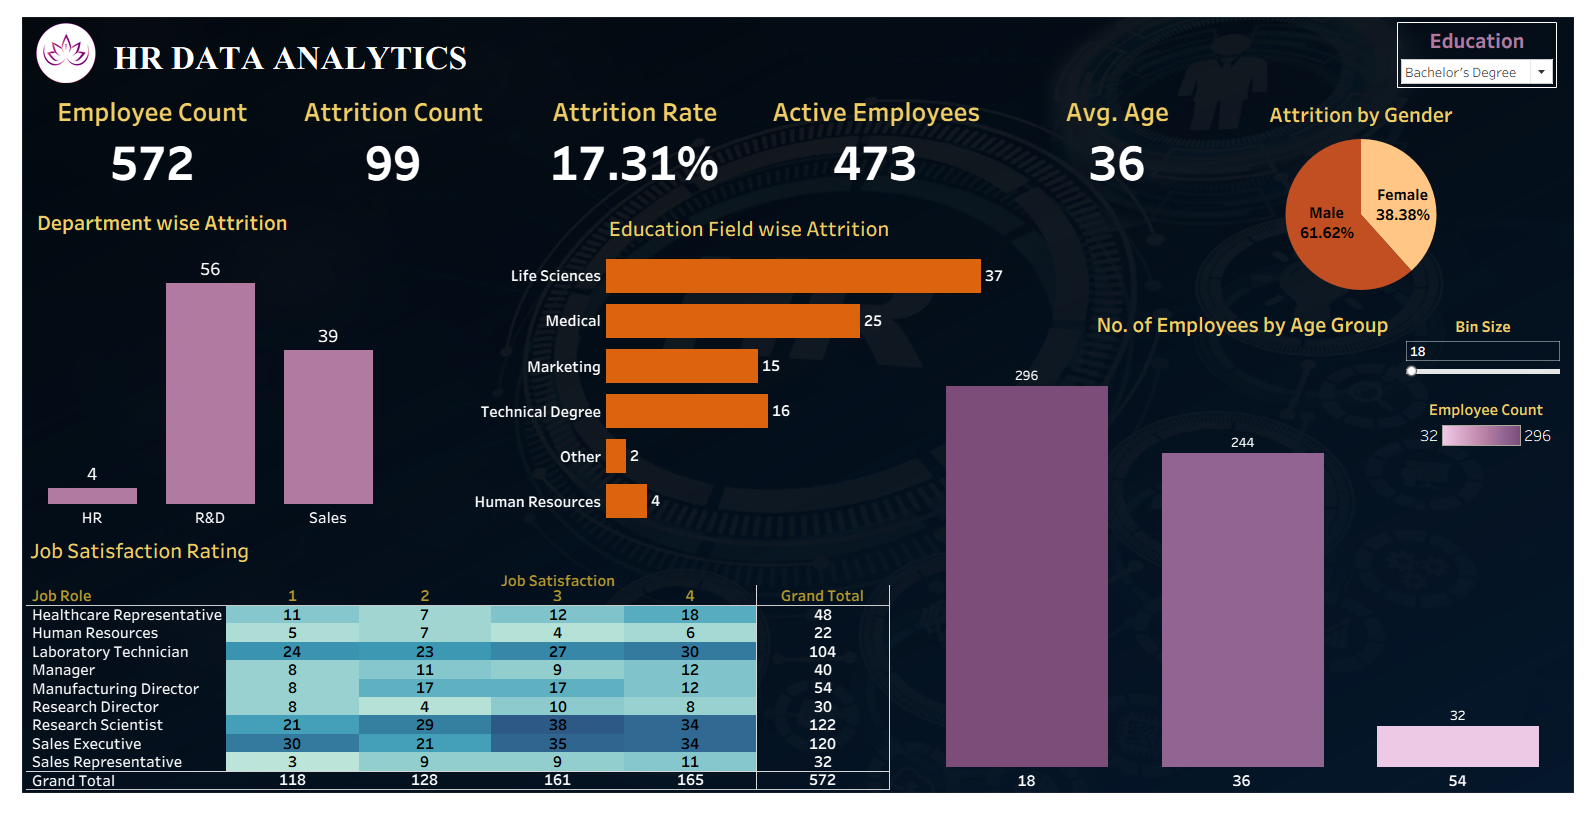

The page's visual inventory and layout, read from the dashboard file:
{"tool":"tableau","page":{"name":"Dashboard 1","canvas":[1000,1000],"units":"permille","ordinal":0},"visuals":[{"type":"image","param":"Image/bg1.png","box":[5.2,10.2,989.6,979.6]},{"type":"image","param":"Image/logo.png","box":[9.5,21.2,55.1,76.2]},{"type":"filter","title":"Department wise Attrition","param":"[federated.1mih5650cwixov158ot0y03tkkte].[none:Education:nk]","box":[879.1,21.2,101.3,82.5]},{"type":"text","box":[64.6,32.5,235.4,68.8]},{"type":"worksheet","title":"KPI","mark":"Automatic","box":[15.2,103.8,763.3,133.8]},{"type":"worksheet","title":"Attrition by Gender","mark":"Pie","box":[746.2,113.8,220.2,242.5]},{"type":"worksheet","title":"Department wise Attrition","mark":"Automatic","rows":["Calculation_1563312085716348928"],"cols":["Department"],"box":[15.8,248.8,224.7,406.2]},{"type":"worksheet","title":"Education Field wise Attrition","mark":"Automatic","rows":["Education Field"],"cols":["Calculation_1563312085716348928"],"box":[289.9,256.2,358.2,392.5]},{"type":"worksheet","title":"No. of Employees by Age Group","mark":"Automatic","rows":["Employee Count"],"cols":["Age (bin)"],"box":[576.6,376.2,409.5,607.5]},{"type":"parameter","param":"[Parameters].[Parameter 1]","box":[882.9,388.8,101.3,88.8]},{"type":"legend","title":"No. of Employees by Age Group","param":"[federated.1mih5650cwixov158ot0y03tkkte].[sum:Employee Count:qk]","box":[891.1,492.5,88.6,110]},{"type":"worksheet","title":"Job Satisfaction Rating","mark":"Square","rows":["Job Role"],"cols":["Job Satisfaction"],"box":[11.4,658.8,546.8,322.5]}]}

Visuals, with their boxes on the dashboard's canvas, which has no fixed pixel size, in thousandths of its width and height (x1, y1, x2, y2). These are canvas units, not pixel positions in the 1596x832 screenshot, which may show the page scaled, cropped or inside an application window:
image: 5/10/995/990
image: 10/21/65/97
"Department wise Attrition" filter: 879/21/980/104
text: 65/32/300/101
"KPI" worksheet: 15/104/778/238
"Attrition by Gender" worksheet (Pie marks): 746/114/966/356
"Department wise Attrition" worksheet: 16/249/240/655
"Education Field wise Attrition" worksheet: 290/256/648/649
"No. of Employees by Age Group" worksheet: 577/376/986/984
parameter: 883/389/984/478
"No. of Employees by Age Group" legend: 891/492/980/602
"Job Satisfaction Rating" worksheet (Square marks): 11/659/558/981
